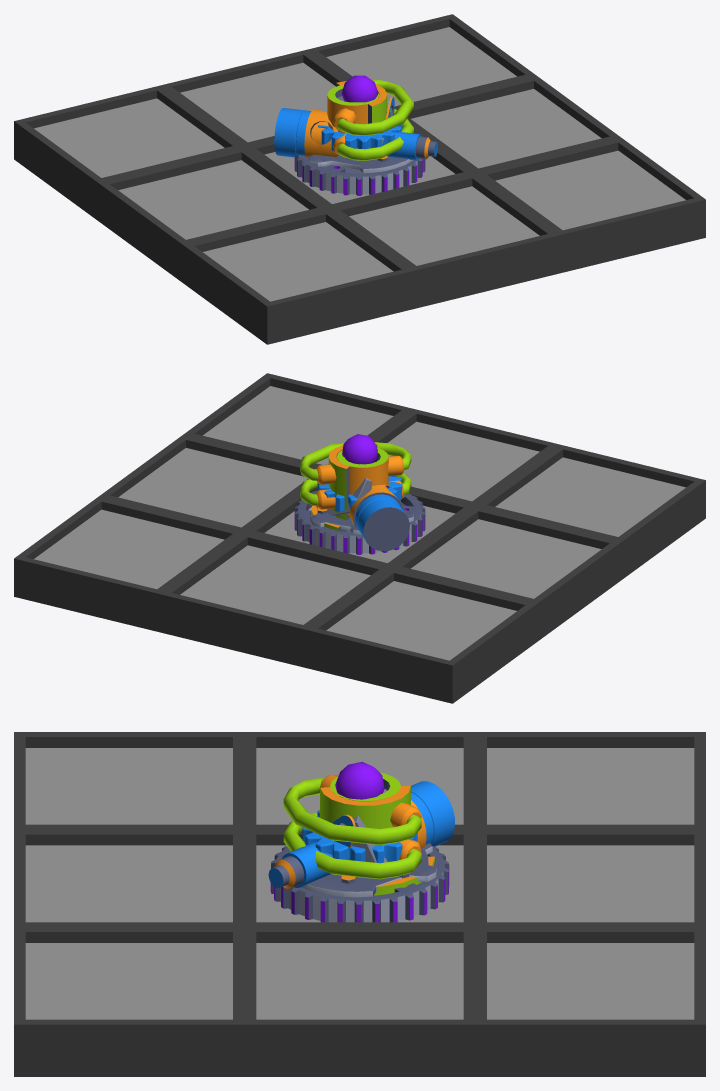
Rendered from Gun_Upgrade_Parts (1).FBX.
3 renders of one model, top to bottom at view 1: azimuth 30°, elevation 25°; view 2: azimuth 150°, elevation 25°; view 3: azimuth 270°, elevation 25°, orthographic. The views are drawn at different scales.
Parts seen in each view (by area): view 1: Gun_Parts_Base, Level5, Level4, Level3, Level1; view 2: Gun_Parts_Base, Level4, Level5, Level3, Level1; view 3: Gun_Parts_Base, Level4, Level5, Level3, Level1.
Part boxes in pixels (bbox=[...]): Gun_Parts_Base: bbox=[14, 14, 705, 344]; Level5: bbox=[294, 75, 425, 195]; Level4: bbox=[322, 79, 413, 173]; Level3: bbox=[274, 96, 437, 160]; Level1: bbox=[318, 114, 402, 151]; Gun_Parts_Base: bbox=[14, 373, 705, 703]; Level4: bbox=[300, 442, 411, 532]; Level5: bbox=[294, 434, 425, 554]; Level3: bbox=[348, 484, 409, 551]; Level1: bbox=[317, 475, 402, 511]; Gun_Parts_Base: bbox=[14, 732, 705, 1076]; Level4: bbox=[283, 772, 434, 895]; Level5: bbox=[270, 761, 449, 922]; Level3: bbox=[268, 781, 454, 888]; Level1: bbox=[302, 810, 417, 863].
Bounding box in the file's own units: 30 × 7.98 × 30.
7 materials, 5 textured.
